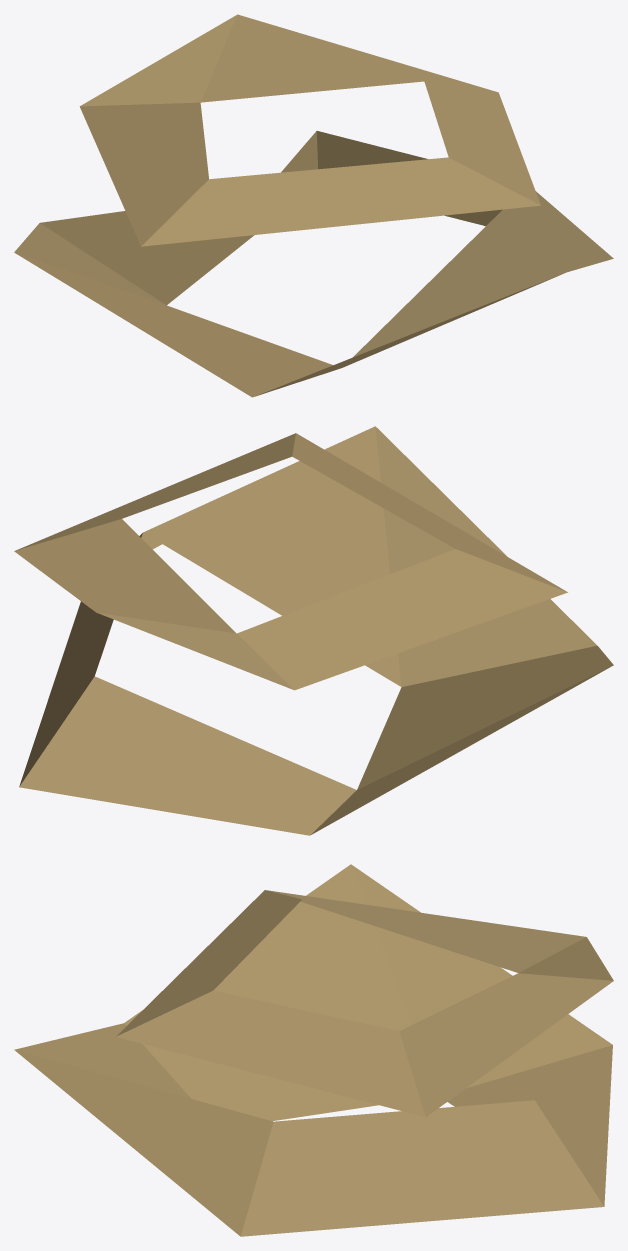
The model's file is coast-atoll.lod2.glb.
The picture shows the model from 3 angles, top to bottom: view 1: azimuth 30°, elevation 25°; view 2: azimuth 150°, elevation 25°; view 3: azimuth 270°, elevation 25°; orthographic projection. The views are drawn at different scales.
Parts seen in each view (by area): view 1: coast-atoll__body; view 2: coast-atoll__body; view 3: coast-atoll__body.
Part boxes in pixels (bbox=[...]): coast-atoll__body: bbox=[14, 14, 613, 397]; coast-atoll__body: bbox=[14, 426, 613, 835]; coast-atoll__body: bbox=[14, 864, 613, 1236].
Bounding box in the file's own units: 12.15 × 4.04 × 11.36.
